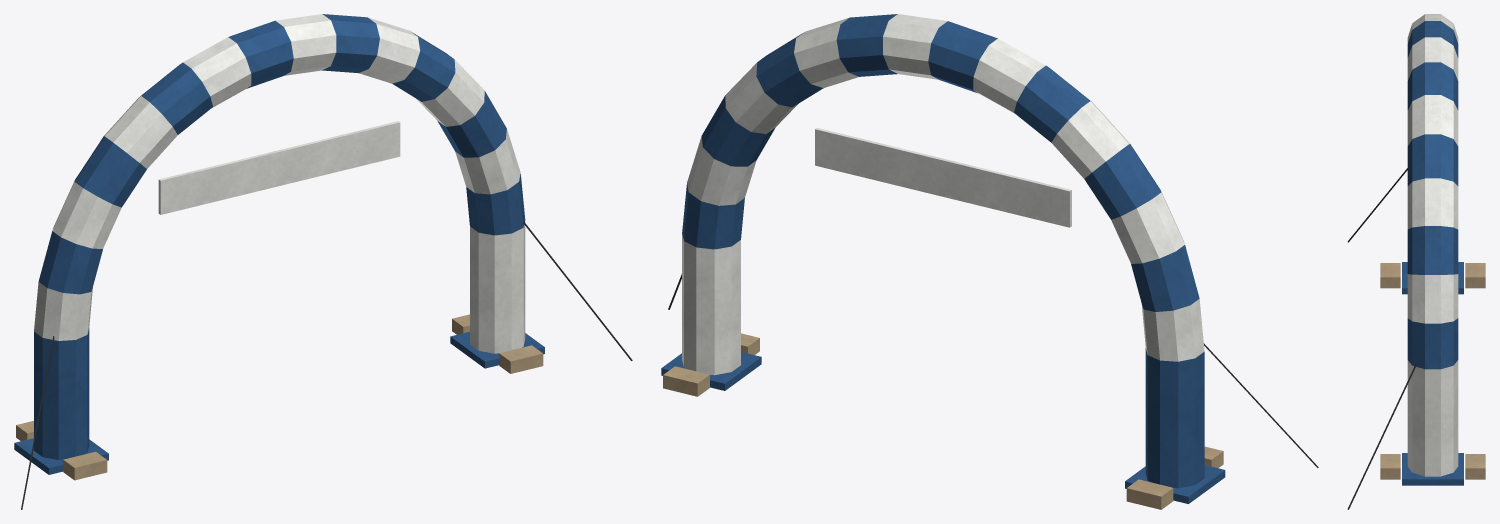
The model's file is tour_arch.fbx.
The picture shows the model from 3 angles, left to right: view 1: azimuth 30°, elevation 25°; view 2: azimuth 150°, elevation 25°; view 3: azimuth 270°, elevation 25°; orthographic projection. The views are drawn at different scales.
Parts seen in each view (by area): view 1: tour_arch_LOD0; view 2: tour_arch_LOD0; view 3: tour_arch_LOD0.
Boxes of the visible parts, x1,y1,x2,y2 form: tour_arch_LOD0: [14, 14, 632, 509]; tour_arch_LOD0: [661, 14, 1318, 509]; tour_arch_LOD0: [1347, 14, 1485, 509].
Size of what is drawn, in the model's own units: 11.23 by 6.63 by 2.44.
1 material, 1 textured.
